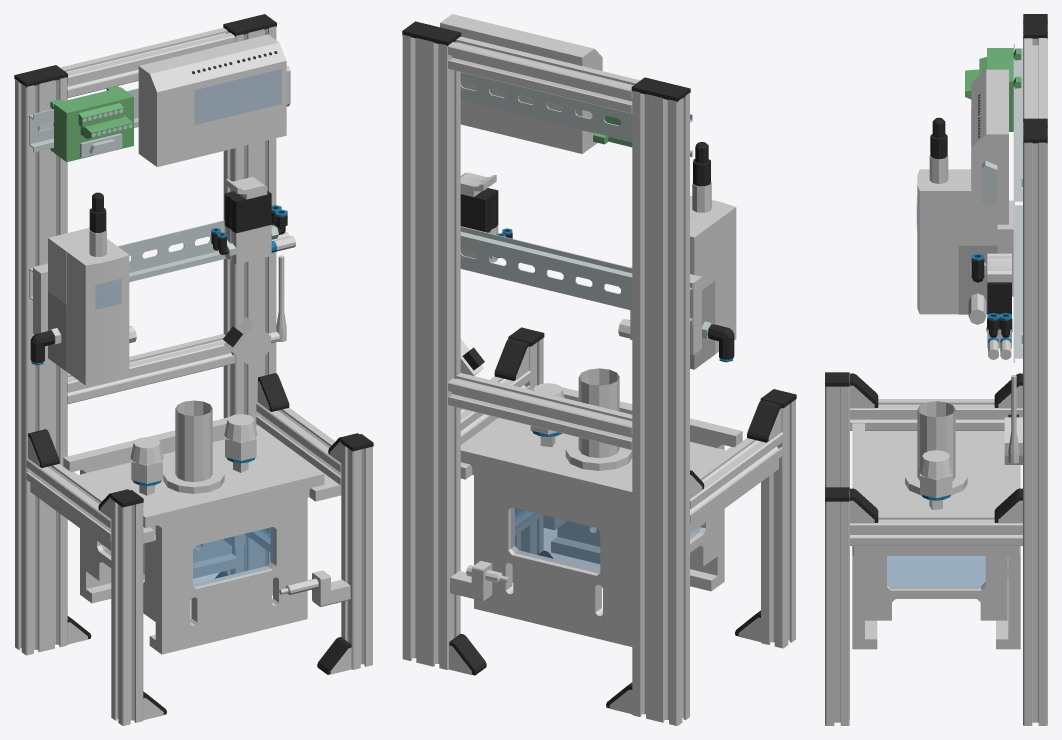
The model's file is musclepress no press.fbx.
3 renders of one model, left to right at view 1: azimuth 30°, elevation 25°; view 2: azimuth 150°, elevation 25°; view 3: azimuth 270°, elevation 25°, orthographic. The views are drawn at different scales.
Visible parts, largest first — view 1: FbxMesh.002, FbxMesh.023, FbxMesh.070, FbxMesh.001, FbxMesh.091, FbxMesh.003, FbxMesh.031, FbxMesh.004, FbxMesh.025, FbxMesh.007, FbxMesh.008, FbxMesh.033 (+30 smaller); view 2: FbxMesh.002, FbxMesh.001, FbxMesh.025, FbxMesh.070, FbxMesh.003, FbxMesh.033, FbxMesh.008, FbxMesh.007, FbxMesh.031, FbxMesh.032, FbxMesh.023, FbxMesh.026 (+18 smaller); view 3: FbxMesh.001, FbxMesh.031, FbxMesh.091, FbxMesh.004, FbxMesh.070, FbxMesh.005, FbxMesh.030, FbxMesh.006, FbxMesh.028, FbxMesh.003, FbxMesh.023, FbxMesh.037 (+29 smaller).
Part boxes in pixels (x1,y1,x2,y2): FbxMesh.002: (15,77,67,655); FbxMesh.023: (143,469,324,654); FbxMesh.070: (138,34,286,167); FbxMesh.001: (223,26,276,595); FbxMesh.091: (67,241,129,385); FbxMesh.003: (111,499,143,725); FbxMesh.031: (30,425,341,550); FbxMesh.004: (341,443,372,669); FbxMesh.025: (63,414,242,603); FbxMesh.007: (67,334,235,404); FbxMesh.008: (60,27,235,97); FbxMesh.033: (29,220,226,300); FbxMesh.002: (632,91,689,725); FbxMesh.001: (402,35,460,669); FbxMesh.025: (460,444,632,646); FbxMesh.070: (440,14,602,153); FbxMesh.003: (761,399,795,648); FbxMesh.033: (460,226,692,324); FbxMesh.008: (448,36,640,113); FbxMesh.007: (448,373,632,450); FbxMesh.031: (460,417,778,533); FbxMesh.032: (460,72,692,156); FbxMesh.023: (551,387,742,591); FbxMesh.026: (511,507,600,573); FbxMesh.001: (1023,122,1047,725); FbxMesh.031: (852,431,1020,555); FbxMesh.091: (917,169,958,314); FbxMesh.004: (825,492,849,725); FbxMesh.070: (971,69,1008,224); FbxMesh.005: (850,514,1022,545); FbxMesh.030: (865,556,1007,620); FbxMesh.006: (850,399,1022,430); FbxMesh.028: (887,556,985,588); FbxMesh.003: (825,377,849,491); FbxMesh.023: (852,423,877,649); FbxMesh.037: (917,401,955,480).
Size of the model in its own units: 26.05 by 52.29 by 18.01.
